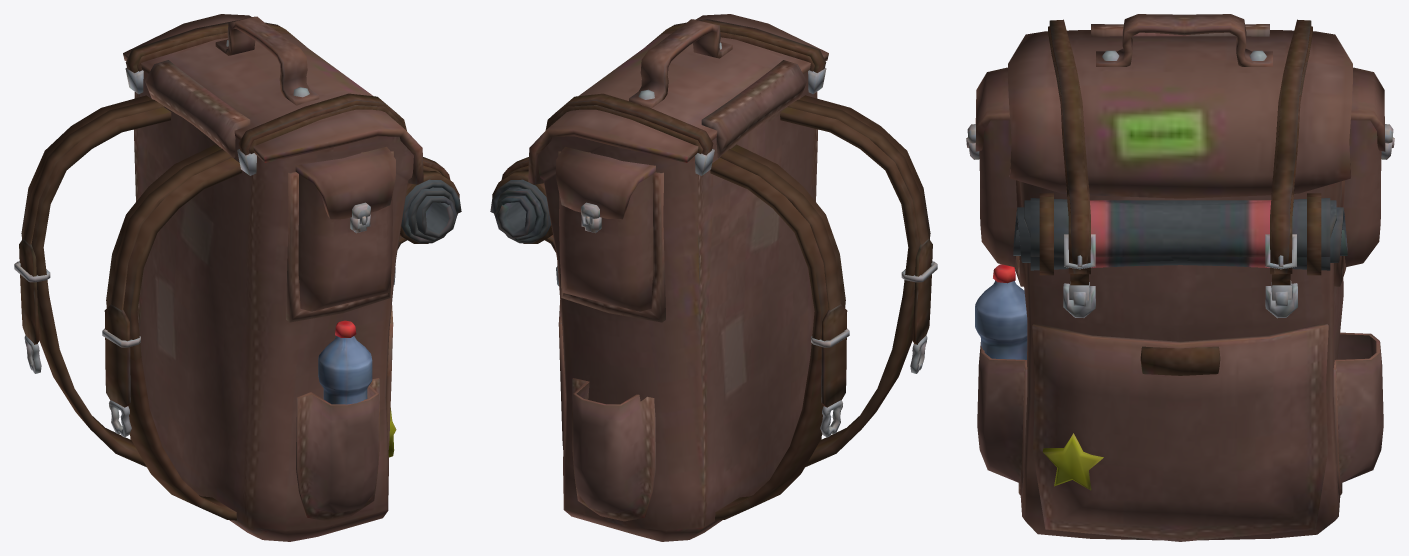
The model's file is rucksack.glb.
The picture shows the model from 3 angles, left to right: view 1: azimuth 30°, elevation 25°; view 2: azimuth 150°, elevation 25°; view 3: azimuth 270°, elevation 25°; orthographic projection. The views are drawn at different scales.
Visible parts, largest first — view 1: bag_low, bag.003_low, bag.036_low, bag.041_low, bag.018_low, bag.045_low, bag.039_low, bag.019_low, bag.024_low, bag.043_low, bag.006_low, bag.004_low (+8 smaller); view 2: bag_low, bag.003_low, bag.037_low, bag.045_low, bag.020_low, bag.041_low, bag.043_low, bag.021_low, bag.024_low, bag.039_low, bag.006_low, bag.011_low (+7 smaller); view 3: bag.001_low, bag.003_low, bag_low, bag.011_low, bag.037_low, bag.036_low, bag.029_low, bag.030_low, bag.018_low, bag.020_low, bag.006_low, bag.004_low (+12 smaller).
Part boxes in pixels (x1=…): bag_low: x1=130, y1=71, x2=413, y2=541; bag.003_low: x1=123, y1=14, x2=423, y2=184; bag.036_low: x1=296, y1=378, x2=379, y2=521; bag.041_low: x1=106, y1=144, x2=241, y2=520; bag.018_low: x1=298, y1=174, x2=392, y2=311; bag.045_low: x1=21, y1=95, x2=171, y2=467; bag.039_low: x1=104, y1=149, x2=231, y2=407; bag.019_low: x1=295, y1=146, x2=395, y2=219; bag.024_low: x1=145, y1=60, x2=250, y2=158; bag.043_low: x1=19, y1=99, x2=163, y2=344; bag.006_low: x1=215, y1=16, x2=319, y2=105; bag.004_low: x1=318, y1=336, x2=372, y2=404; bag_low: x1=538, y1=71, x2=821, y2=541; bag.003_low: x1=528, y1=14, x2=828, y2=184; bag.037_low: x1=572, y1=378, x2=655, y2=521; bag.045_low: x1=710, y1=144, x2=845, y2=520; bag.020_low: x1=559, y1=174, x2=653, y2=311; bag.041_low: x1=780, y1=95, x2=930, y2=467; bag.043_low: x1=720, y1=149, x2=847, y2=407; bag.021_low: x1=556, y1=146, x2=655, y2=219; bag.024_low: x1=701, y1=60, x2=806, y2=158; bag.039_low: x1=787, y1=99, x2=932, y2=344; bag.006_low: x1=629, y1=19, x2=732, y2=108; bag.011_low: x1=490, y1=179, x2=551, y2=243; bag.001_low: x1=1032, y1=324, x2=1328, y2=541; bag.003_low: x1=1008, y1=30, x2=1352, y2=198; bag_low: x1=1019, y1=181, x2=1343, y2=540; bag.011_low: x1=1013, y1=198, x2=1347, y2=270; bag.037_low: x1=1333, y1=332, x2=1383, y2=495; bag.036_low: x1=977, y1=342, x2=1027, y2=495; bag.029_low: x1=1049, y1=19, x2=1089, y2=273; bag.030_low: x1=1271, y1=19, x2=1311, y2=273; bag.018_low: x1=979, y1=120, x2=1016, y2=266; bag.020_low: x1=1344, y1=120, x2=1381, y2=266; bag.006_low: x1=1096, y1=14, x2=1272, y2=66; bag.004_low: x1=975, y1=280, x2=1027, y2=359.
Bounding box in the file's own units: 348 × 443 × 344.
1 material, 1 textured.
